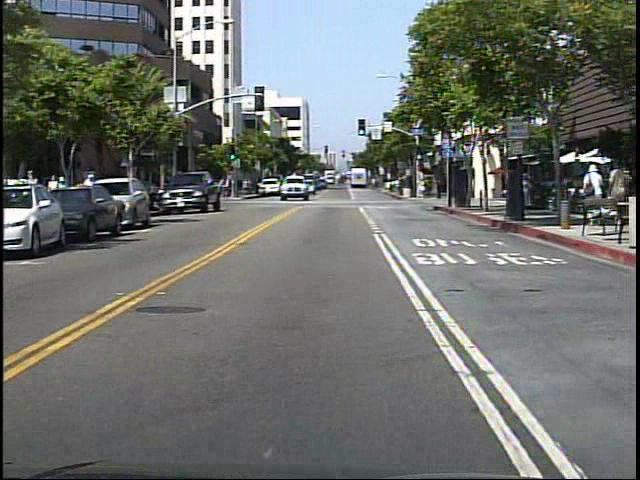person: (593, 158, 624, 226), (508, 169, 534, 215), (220, 174, 232, 201), (418, 178, 428, 200)
